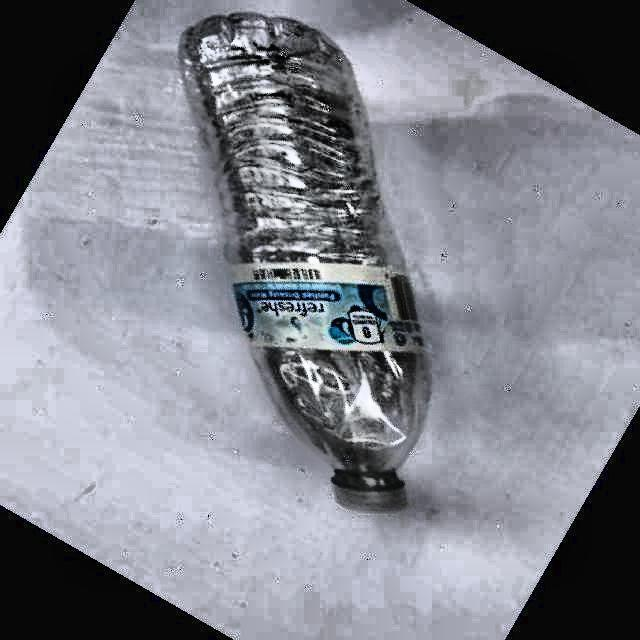plastic: (180, 12, 429, 512)
